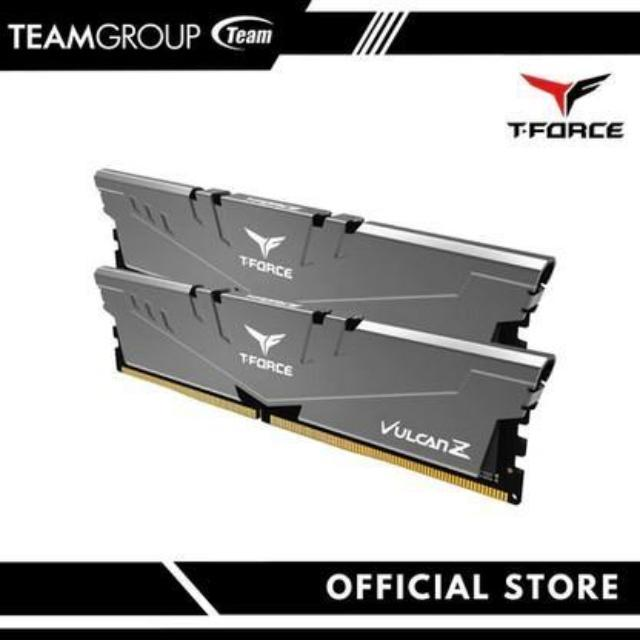RAM: (90, 162, 561, 506)
